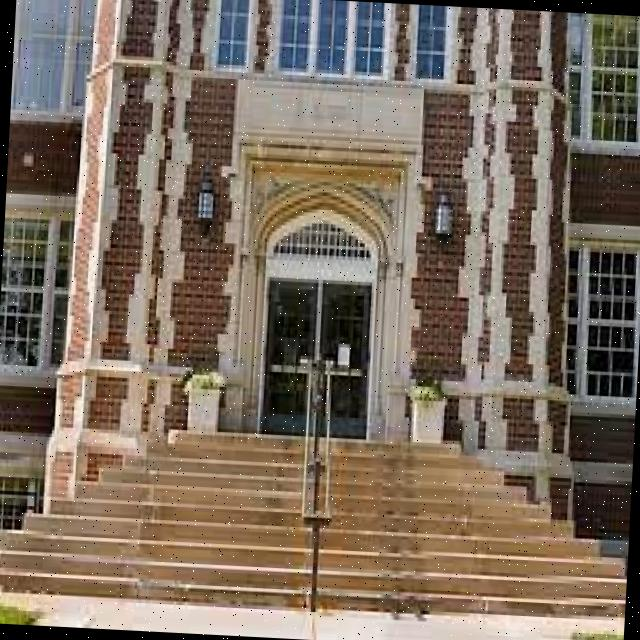stairs: (0, 413, 631, 624)
